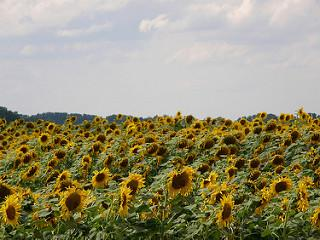sunflower: (165, 167, 194, 195), (62, 187, 87, 216), (1, 195, 21, 227), (217, 194, 235, 226), (122, 174, 144, 193), (89, 169, 110, 188), (270, 177, 293, 194), (117, 186, 131, 213), (36, 133, 51, 146), (117, 156, 130, 169), (248, 169, 260, 183), (54, 149, 69, 160), (91, 140, 103, 153), (58, 170, 70, 183), (249, 157, 261, 169), (156, 146, 169, 156), (104, 153, 114, 166), (272, 155, 285, 165), (82, 154, 92, 166), (225, 167, 238, 176)
